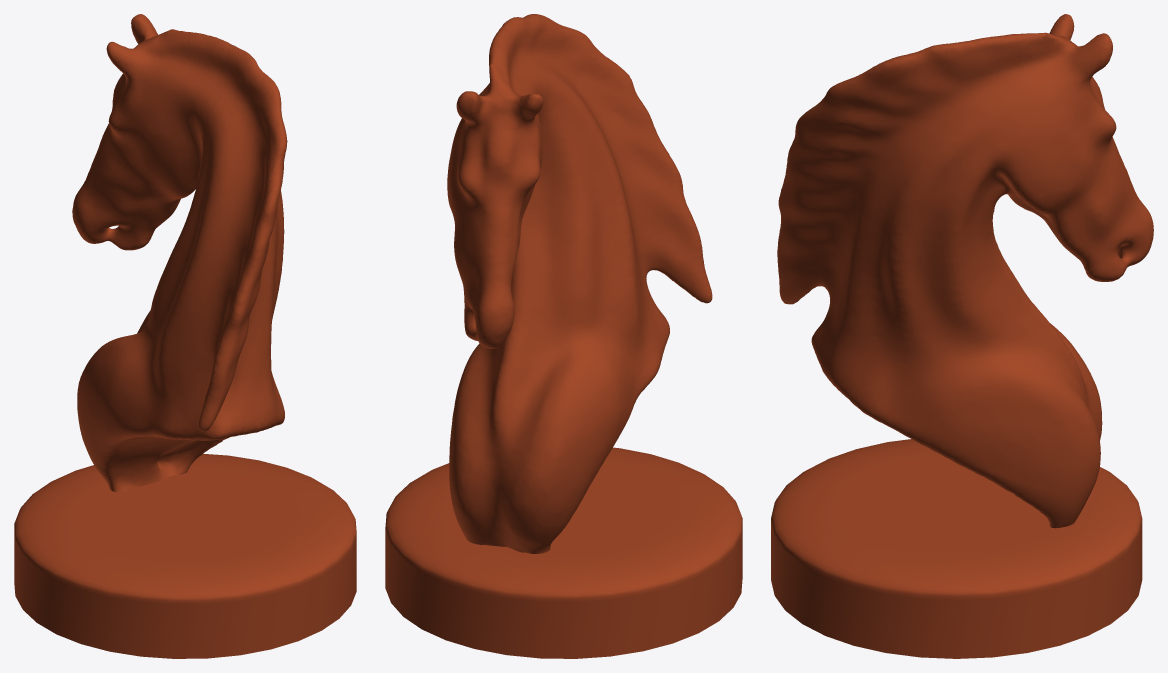
The model's file is horse_bust.glb.
The picture shows the model from 3 angles, left to right: view 1: azimuth 30°, elevation 25°; view 2: azimuth 150°, elevation 25°; view 3: azimuth 270°, elevation 25°; orthographic projection. The views are drawn at different scales.
Parts seen in each view (by area): view 1: Cylinder; view 2: Cylinder; view 3: Cylinder.
Boxes of the visible parts, x1,y1,x2,y2 form: Cylinder: (14, 14, 356, 658); Cylinder: (385, 14, 742, 658); Cylinder: (771, 14, 1153, 658).
Size of the model in its own units: 17.8 by 30.05 by 18.36.
